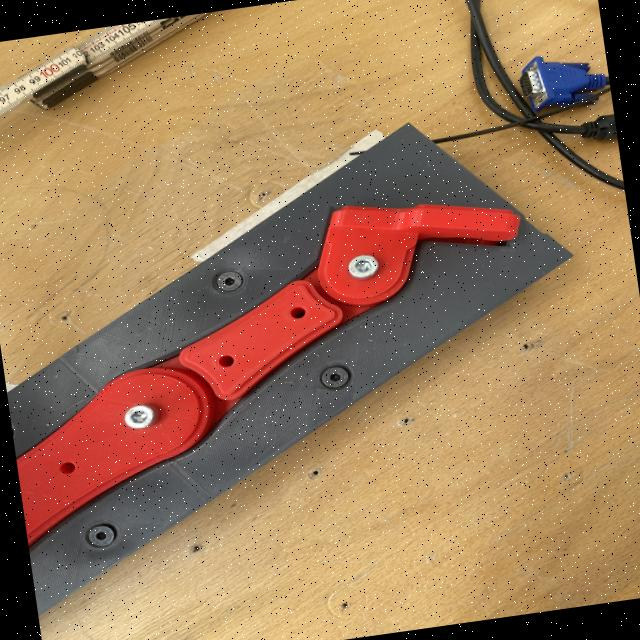Hex Socket Allen: (346, 253, 381, 282), (124, 404, 156, 431), (214, 268, 245, 292), (319, 366, 350, 390), (86, 524, 116, 548)
